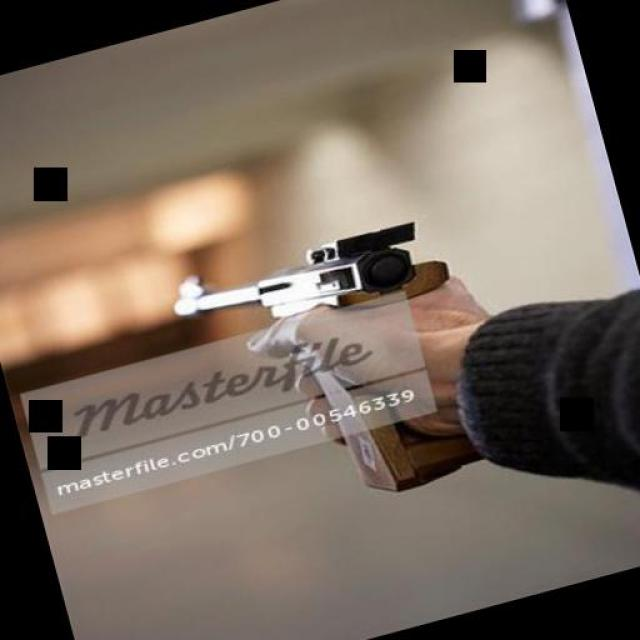gun: (142, 190, 518, 536)
